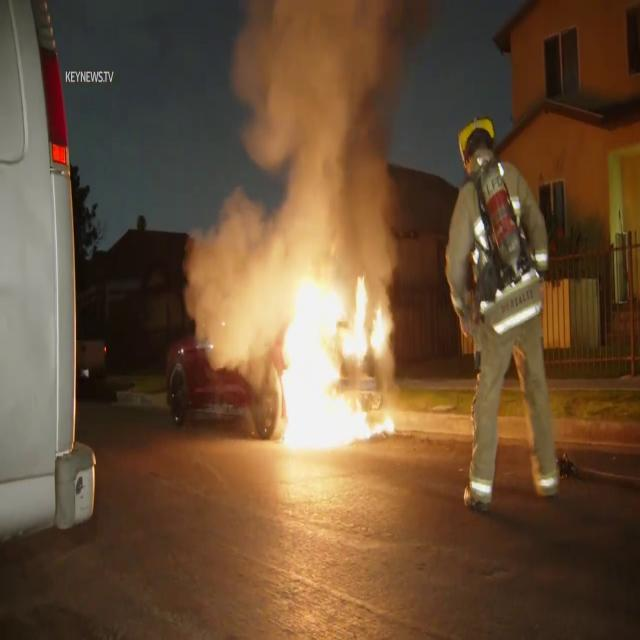Fire: (263, 235, 405, 459)
Smoke: (188, 1, 420, 274)
